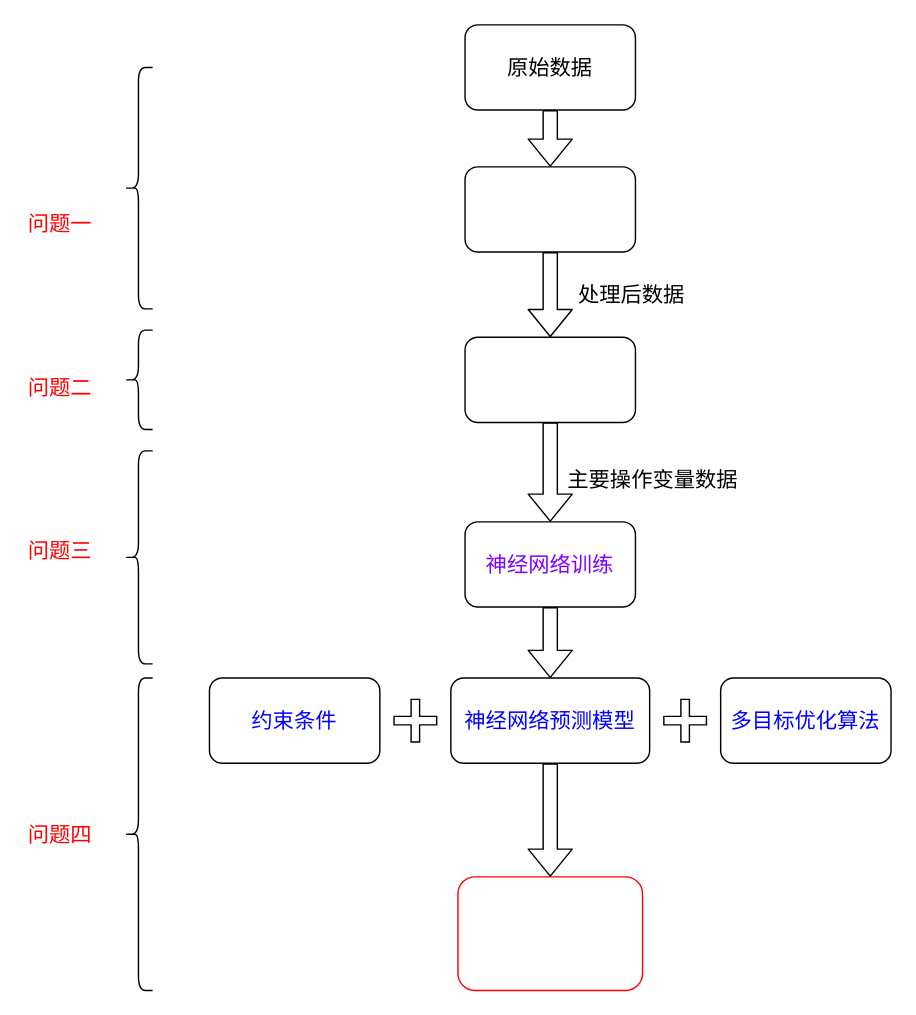
The diagram is 916 pixels wide and 1015 high, and some of its shapes have lost their labels. The box of each missing label's shape, as (x1, y1, x2, y2) in pixels:
多目标优化模型: (457, 875, 643, 990)
数据预处理: (464, 165, 635, 252)
特征选取: (464, 336, 635, 422)
